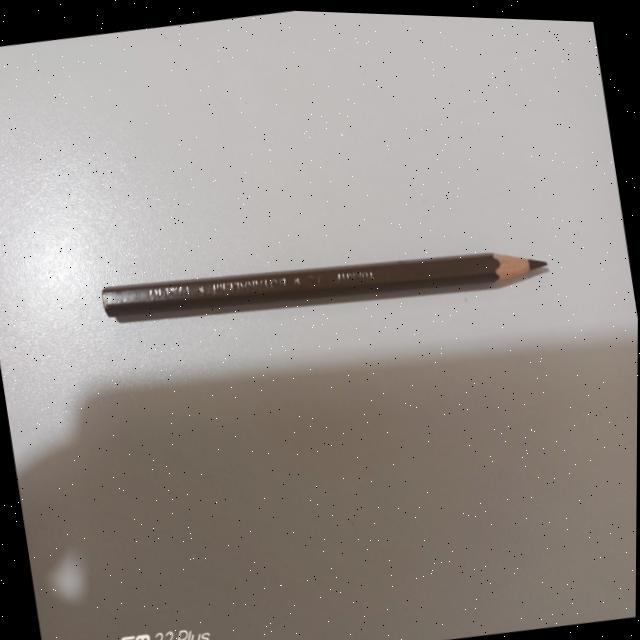pencil: (97, 209, 556, 352)
